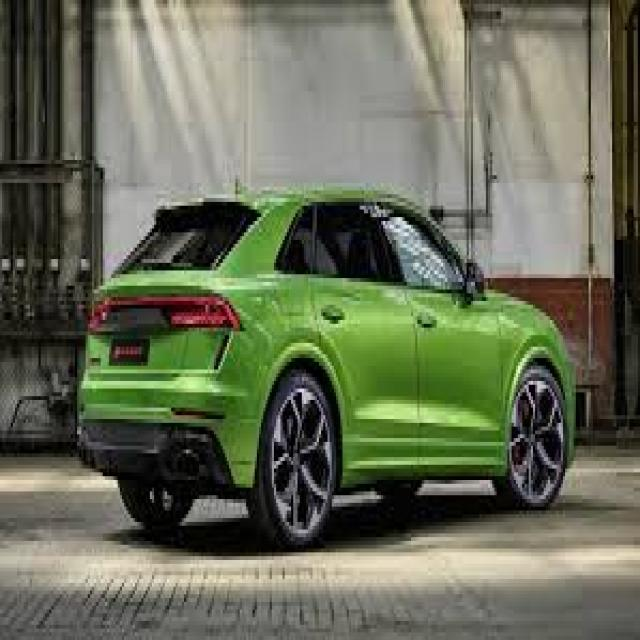SUV: (78, 189, 580, 550)
